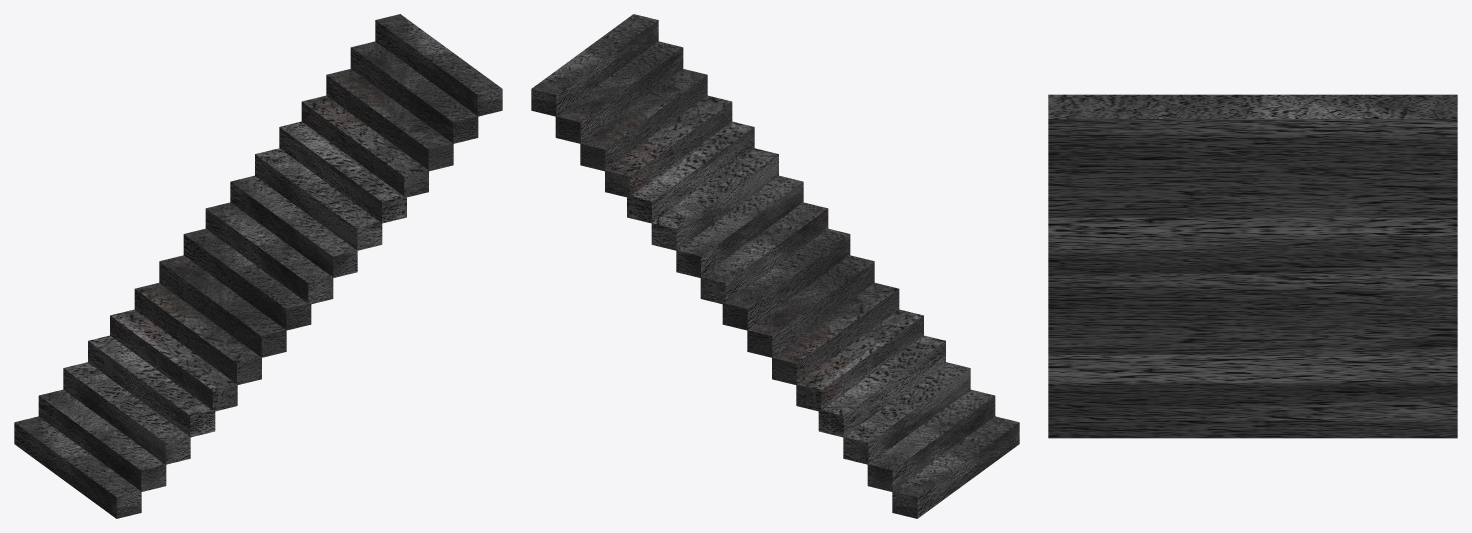
Rendered from stairs.fbx.
3 views of the same model, side by side, from view 1: azimuth 30°, elevation 25°; view 2: azimuth 150°, elevation 25°; view 3: azimuth 270°, elevation 25° (orthographic). The views are drawn at different scales.
Parts seen in each view (by area): view 1: stairs; view 2: stairs; view 3: stairs.
Boxes of the visible parts, bbox=[...] form: stairs: bbox=[14, 14, 502, 518]; stairs: bbox=[531, 14, 1019, 518]; stairs: bbox=[1048, 94, 1457, 438].
Size of the model in its own units: 356 by 295 by 163.
Materials: 1 (1 with a texture image).
